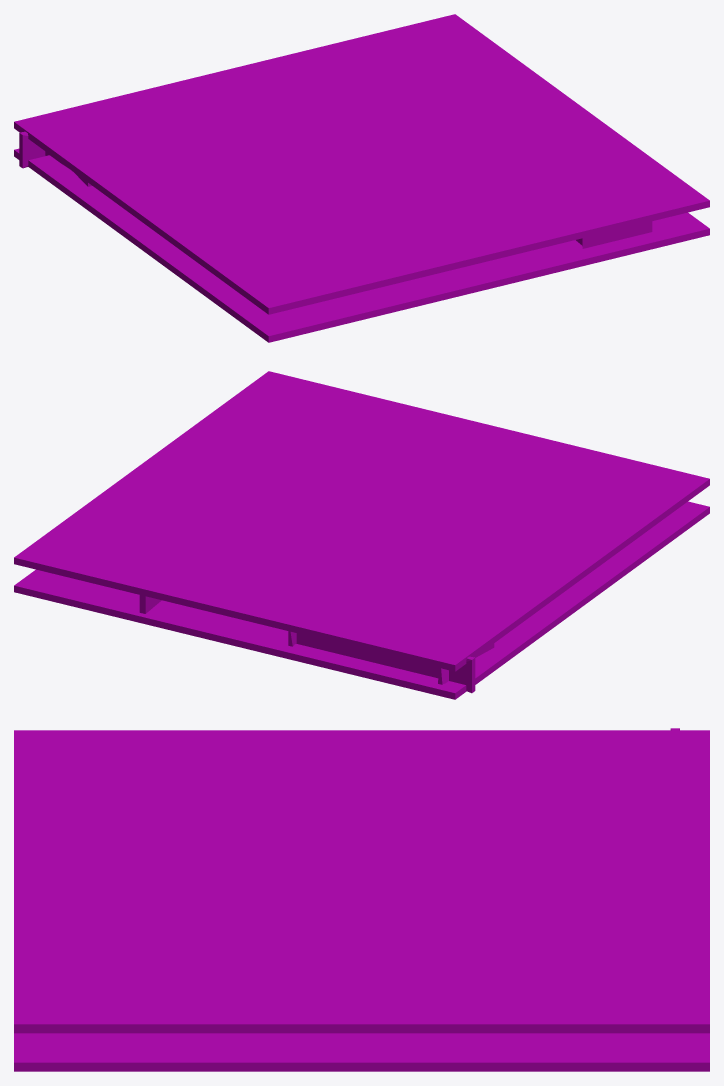
File: rave_remesh_attempt.glb
The picture shows the model from 3 angles, top to bottom: view 1: azimuth 30°, elevation 25°; view 2: azimuth 150°, elevation 25°; view 3: azimuth 270°, elevation 25°; orthographic projection. The views are drawn at different scales.
Visible parts, largest first — view 1: MeshInstance3D2, MeshInstance3D, MeshInstance3D34; view 2: MeshInstance3D2, MeshInstance3D, MeshInstance3D34; view 3: MeshInstance3D2, MeshInstance3D.
Boxes of the visible parts, x1,y1,x2,y2 form: MeshInstance3D2: (14, 14, 709, 314); MeshInstance3D: (14, 148, 709, 342); MeshInstance3D34: (19, 131, 652, 248); MeshInstance3D2: (14, 371, 709, 671); MeshInstance3D: (14, 501, 709, 699); MeshInstance3D34: (139, 595, 494, 693); MeshInstance3D2: (14, 730, 709, 1033); MeshInstance3D: (14, 1033, 709, 1071).
Size of the model in its own units: 70.9 by 5.28 by 70.
